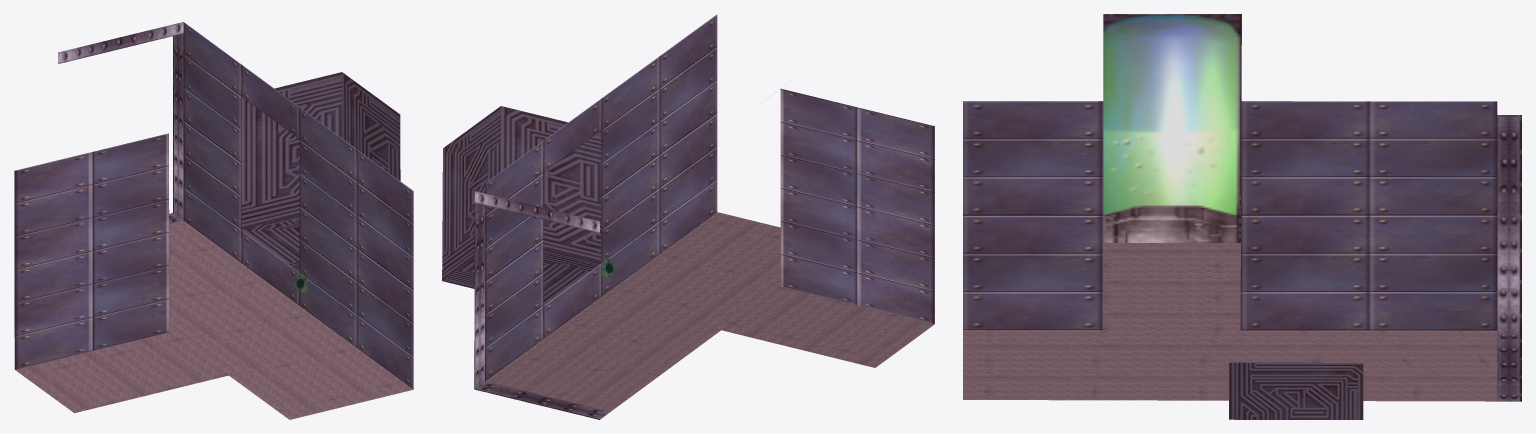
Rendered from cellhall.glb.
The picture shows the model from 3 angles, left to right: view 1: azimuth 30°, elevation 25°; view 2: azimuth 150°, elevation 25°; view 3: azimuth 270°, elevation 25°; orthographic projection. The views are drawn at different scales.
Visible parts, largest first — view 1: cellhall; view 2: cellhall; view 3: cellhall.
Part boxes in pixels (x1,y1,x2,y2): cellhall: (14,22,413,419); cellhall: (442,14,934,419); cellhall: (963,14,1521,419).
Size of the model in its own units: 1533 by 766 by 1686.
Materials: 6 (6 with a texture image).
